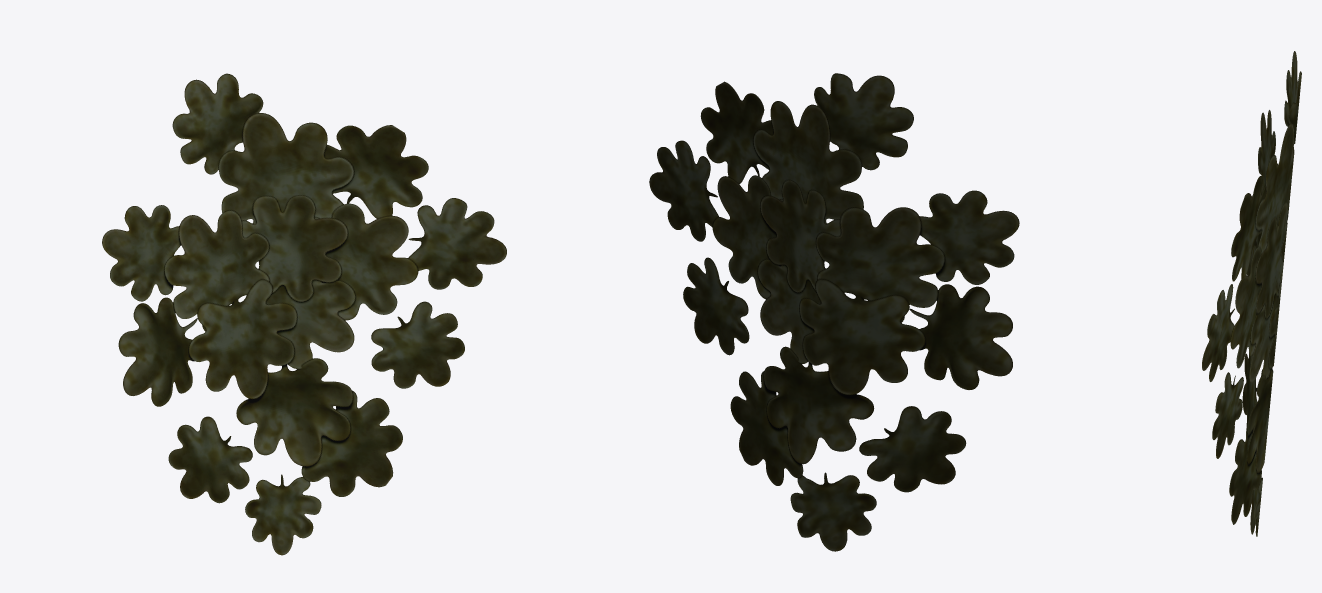
The model's file is TI_Weed_05.fbx.
3 views of the same model, side by side, from view 1: azimuth 30°, elevation 25°; view 2: azimuth 150°, elevation 25°; view 3: azimuth 270°, elevation 25° (orthographic). The views are drawn at different scales.
Visible parts, largest first — view 1: TI_Weed_04; view 2: TI_Weed_04; view 3: TI_Weed_04.
Boxes of the visible parts, x1,y1,x2,y2 form: TI_Weed_04: [102, 73, 506, 555]; TI_Weed_04: [649, 73, 1019, 551]; TI_Weed_04: [1202, 51, 1301, 536].
Size of the model in its own units: 0.7065 by 0.7094 by 0.1538.
